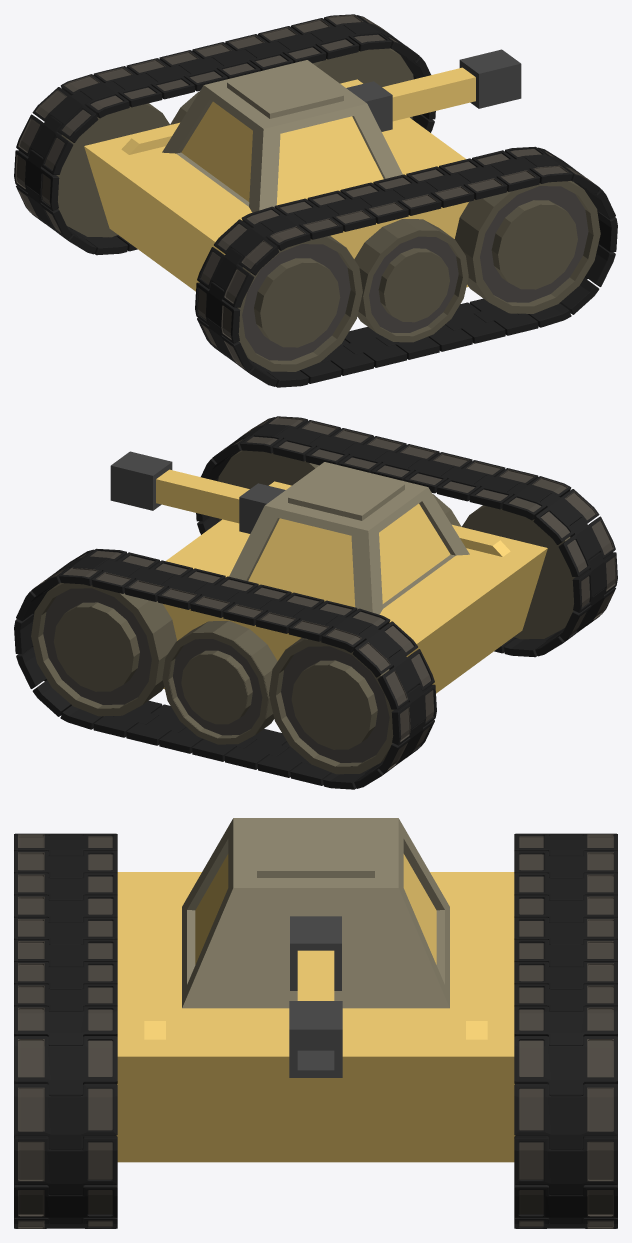
File: PlayerTank.fbx
3 views of the same model, one above another, from view 1: azimuth 30°, elevation 25°; view 2: azimuth 150°, elevation 25°; view 3: azimuth 270°, elevation 25° (orthographic). The views are drawn at different scales.
Visible parts, largest first — view 1: Cube.004; view 2: Cube.004; view 3: Cube.004.
Part boxes in pixels (x1,y1,x2,y2): Cube.004: (14, 14, 617, 387); Cube.004: (14, 416, 617, 789); Cube.004: (14, 818, 617, 1228).
Bounding box in the file's own units: 98.72 × 47.21 × 96.11.
